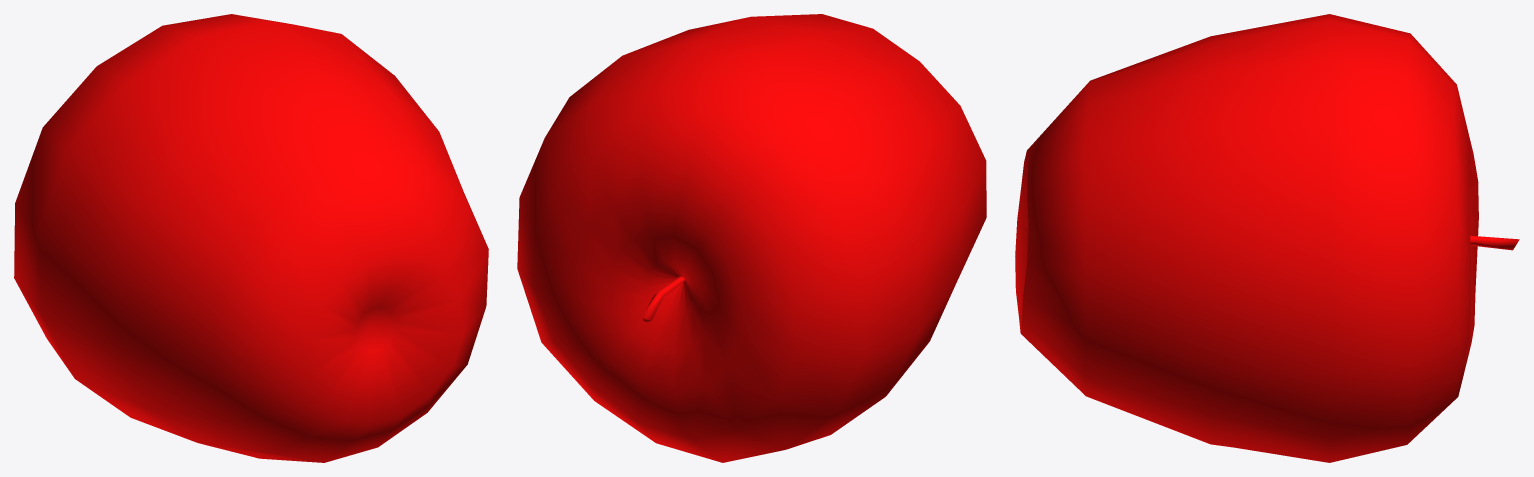
Rendered from apple.fbx.
3 renders of one model, left to right at view 1: azimuth 30°, elevation 25°; view 2: azimuth 150°, elevation 25°; view 3: azimuth 270°, elevation 25°, orthographic. The views are drawn at different scales.
Visible parts, largest first — view 1: apple_a1; view 2: apple_a1; view 3: apple_a1.
Part boxes in pixels (x1,y1,x2,y2): apple_a1: (14,14,488,462); apple_a1: (517,14,986,462); apple_a1: (1015,14,1519,462).
Size of the model in its own units: 988 by 959 by 1088.
